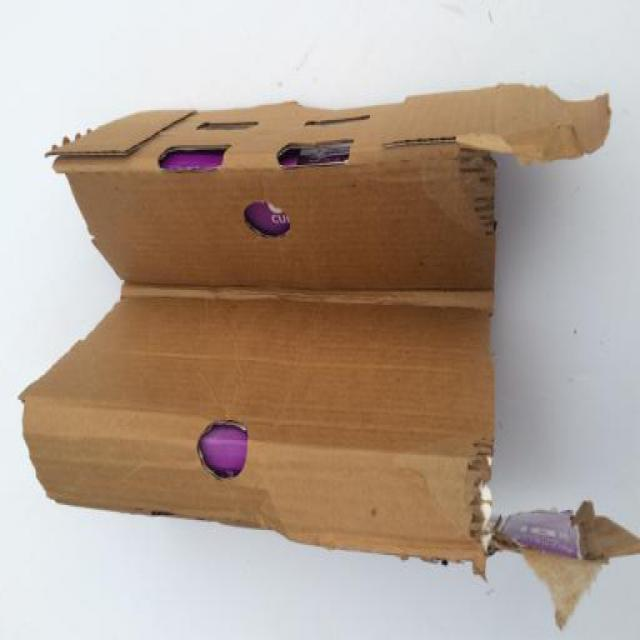cardboard: (10, 47, 640, 640)
